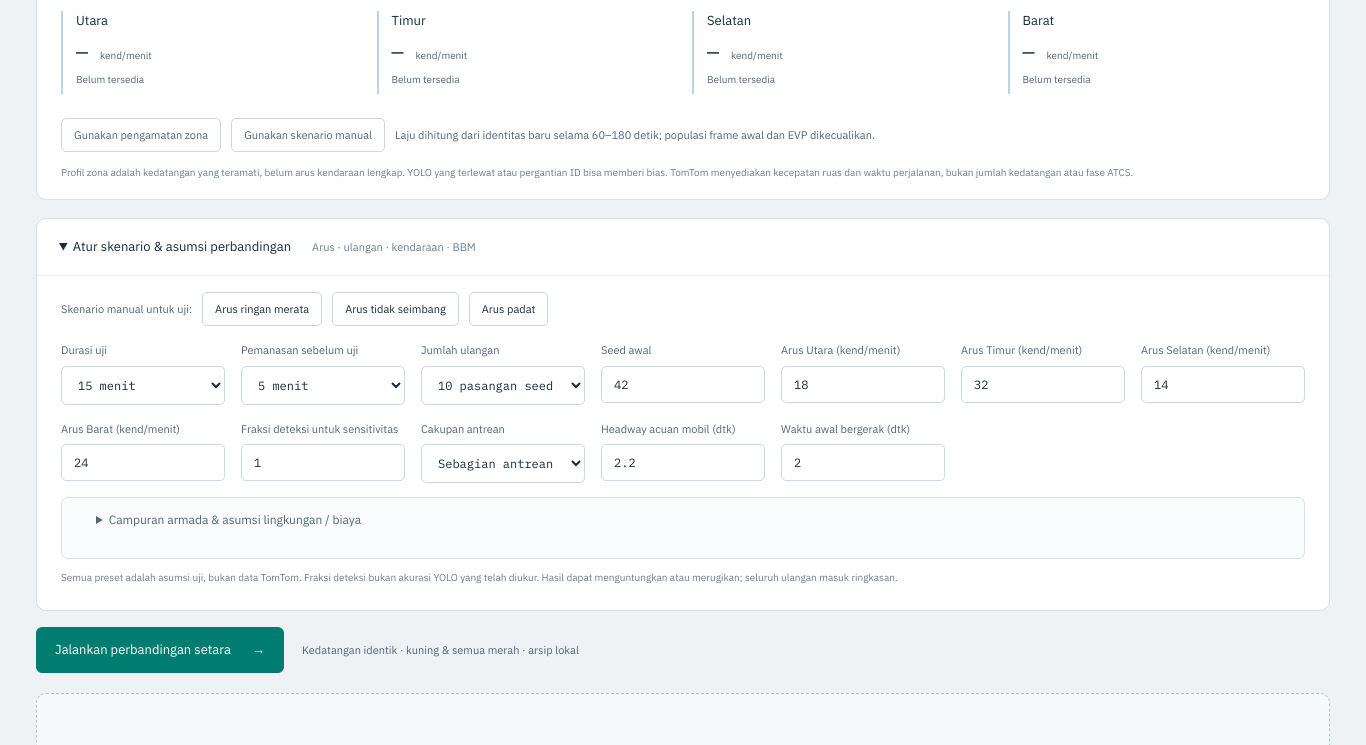
Test case: submits edited demand with existing authentication and CSRF, without controller commands
(page scrolled)
Replace the text in the number field labelled "Arus Utara (kend/menit)" with "30" at (863, 384), box x1=781 y1=366 x2=945 y2=403
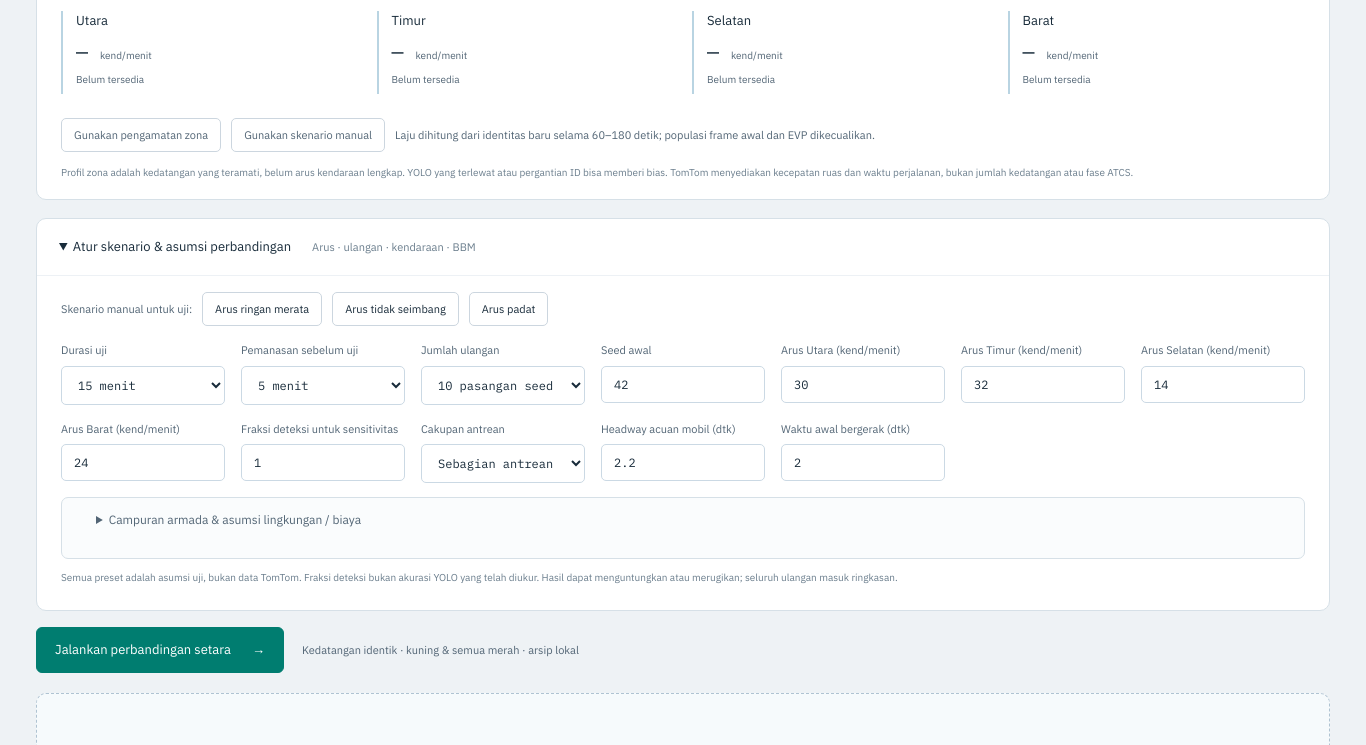
Click the button "Jalankan perbandingan setara →".
click(160, 650)  # box x1=36 y1=627 x2=284 y2=673
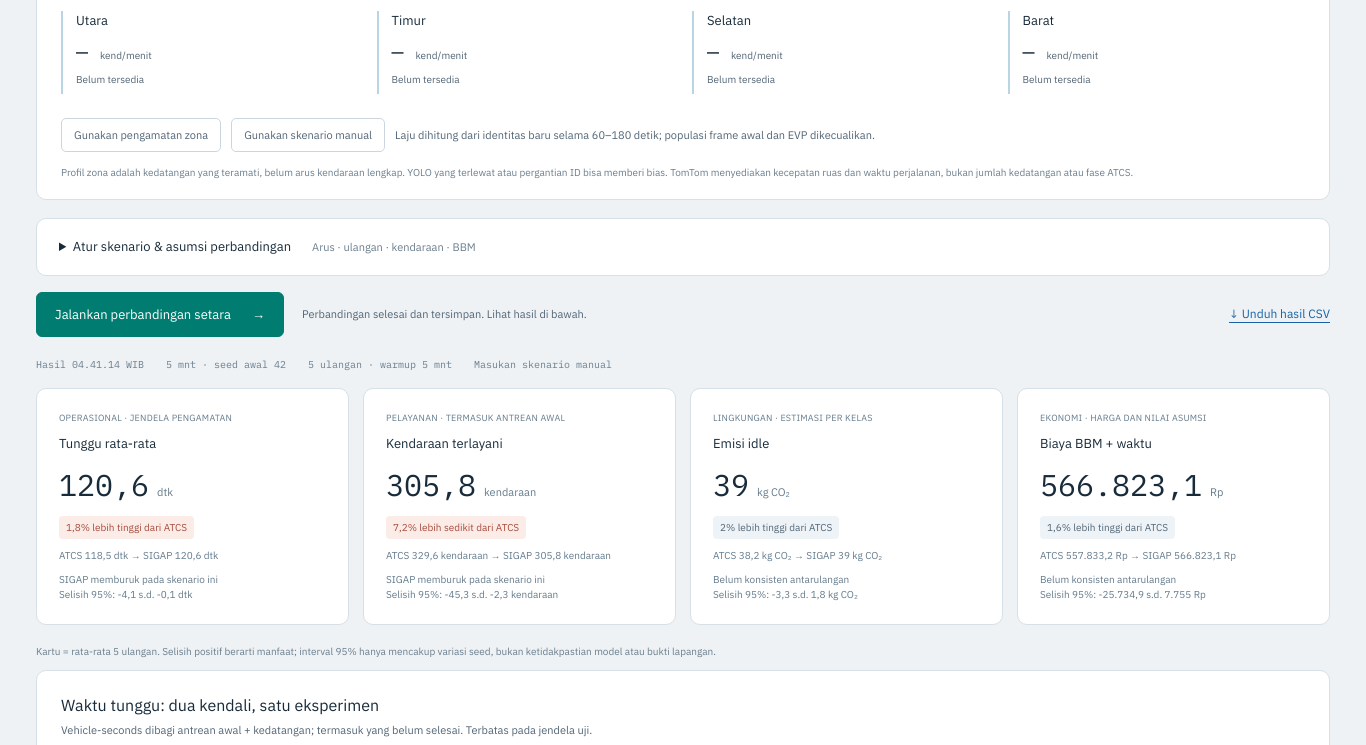
Result: the text "Perbandingan selesai dan tersimpan. Lihat hasil di bawah." is shown at x1=302 y1=306 x2=587 y2=323
